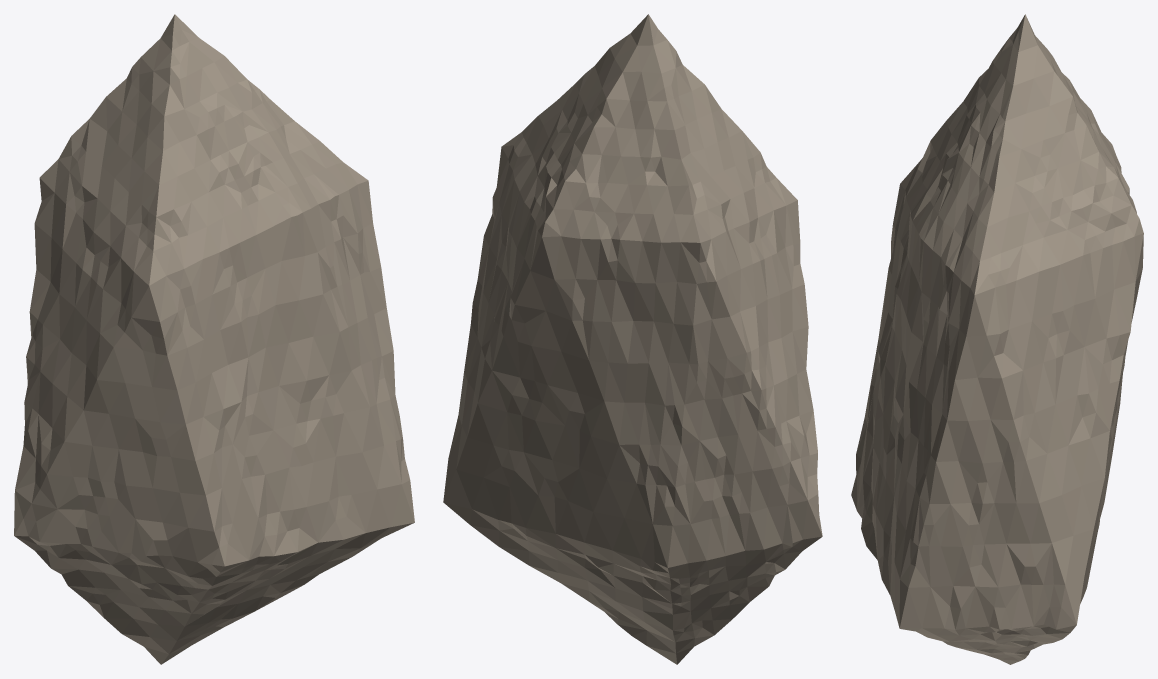
Rendered from SM_GorgeRock_D.fbx.
3 views of the same model, side by side, from view 1: azimuth 30°, elevation 25°; view 2: azimuth 150°, elevation 25°; view 3: azimuth 270°, elevation 25° (orthographic). The views are drawn at different scales.
Parts seen in each view (by area): view 1: SM_GorgeRock_D; view 2: SM_GorgeRock_D; view 3: SM_GorgeRock_D.
Part boxes in pixels (x1,y1,x2,y2): SM_GorgeRock_D: (14,14,414,664); SM_GorgeRock_D: (443,14,822,664); SM_GorgeRock_D: (851,14,1143,664).
Bounding box in the file's own units: 4.1 × 7.23 × 2.9.
